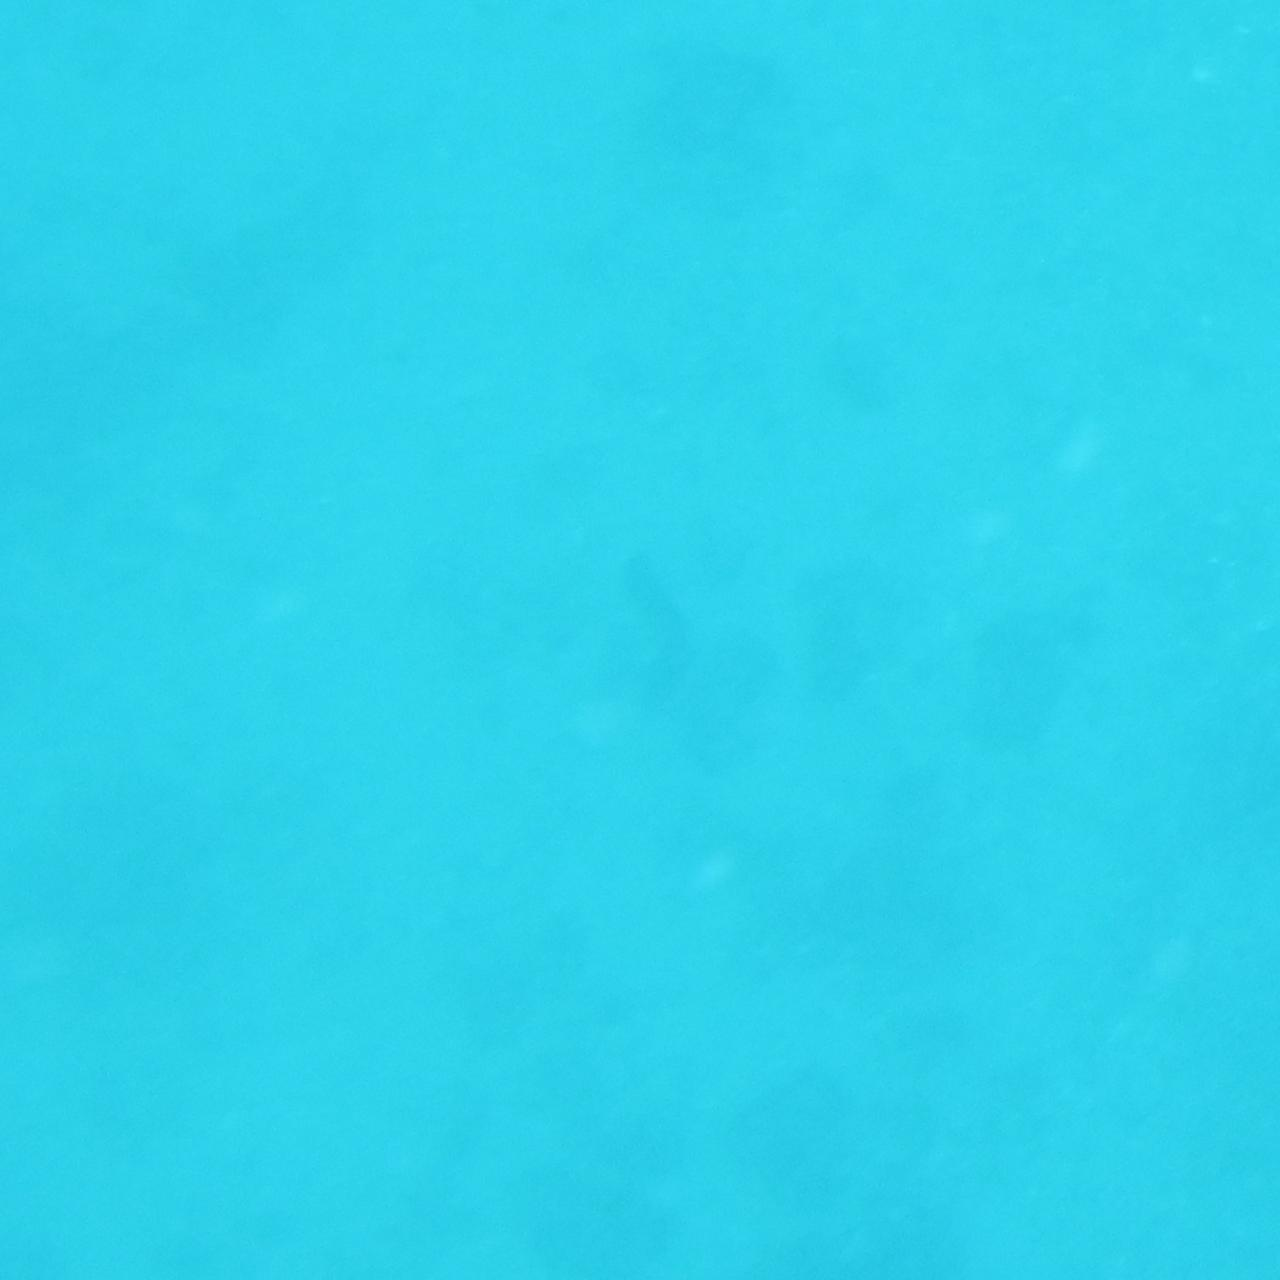Holothuria tubulosa: (598, 549, 682, 731)
